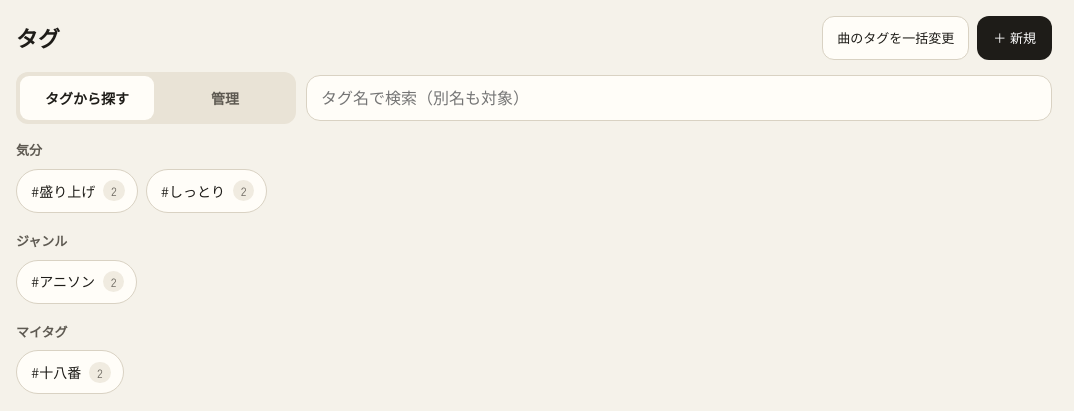
Test: TagsScreen: タグから探す › 名前・別名で検索する（半角カナも同じに扱う）
This screenshot has width=1074, height=411.
Type "ﾊﾞﾗｰﾄﾞ" into the search field named "タグを検索" at (679, 98), box x1=306 y1=75 x2=1052 y2=121
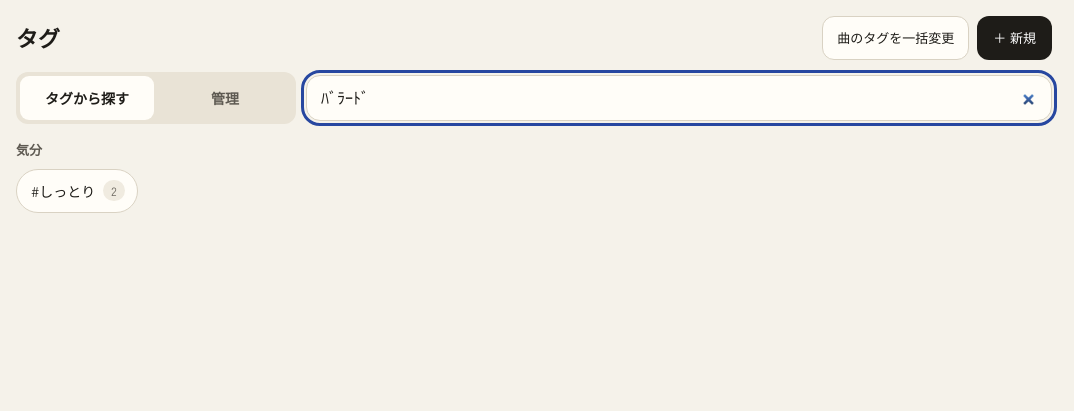
Expected: the links "#" read "#しっとり2", in this order, x1=16 y1=169 x2=138 y2=213
